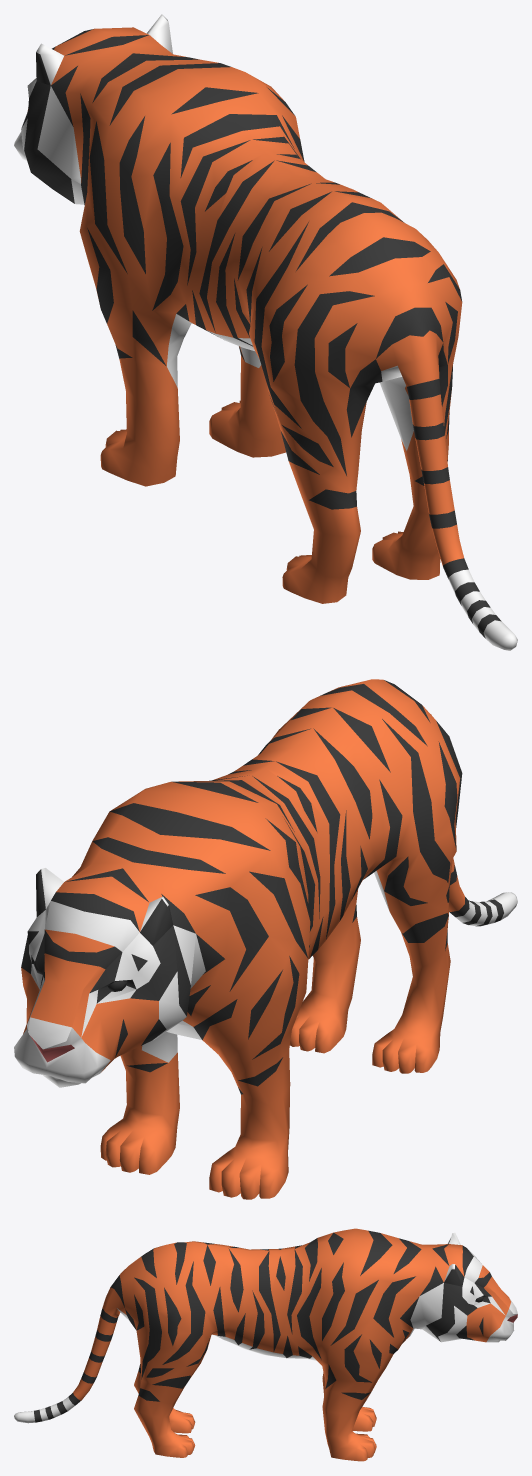
The model's file is Tiger.glb.
3 renders of one model, top to bottom at view 1: azimuth 30°, elevation 25°; view 2: azimuth 150°, elevation 25°; view 3: azimuth 270°, elevation 25°, orthographic. The views are drawn at different scales.
Parts seen in each view (by area): view 1: tiger_001; view 2: tiger_001; view 3: tiger_001.
Boxes of the visible parts, bbox=[...] form: tiger_001: bbox=[14, 14, 517, 650]; tiger_001: bbox=[14, 679, 517, 1199]; tiger_001: bbox=[14, 1228, 517, 1461].
Bounding box in the file's own units: 0.7287 × 1.28 × 2.91.
1 material, 1 textured.
